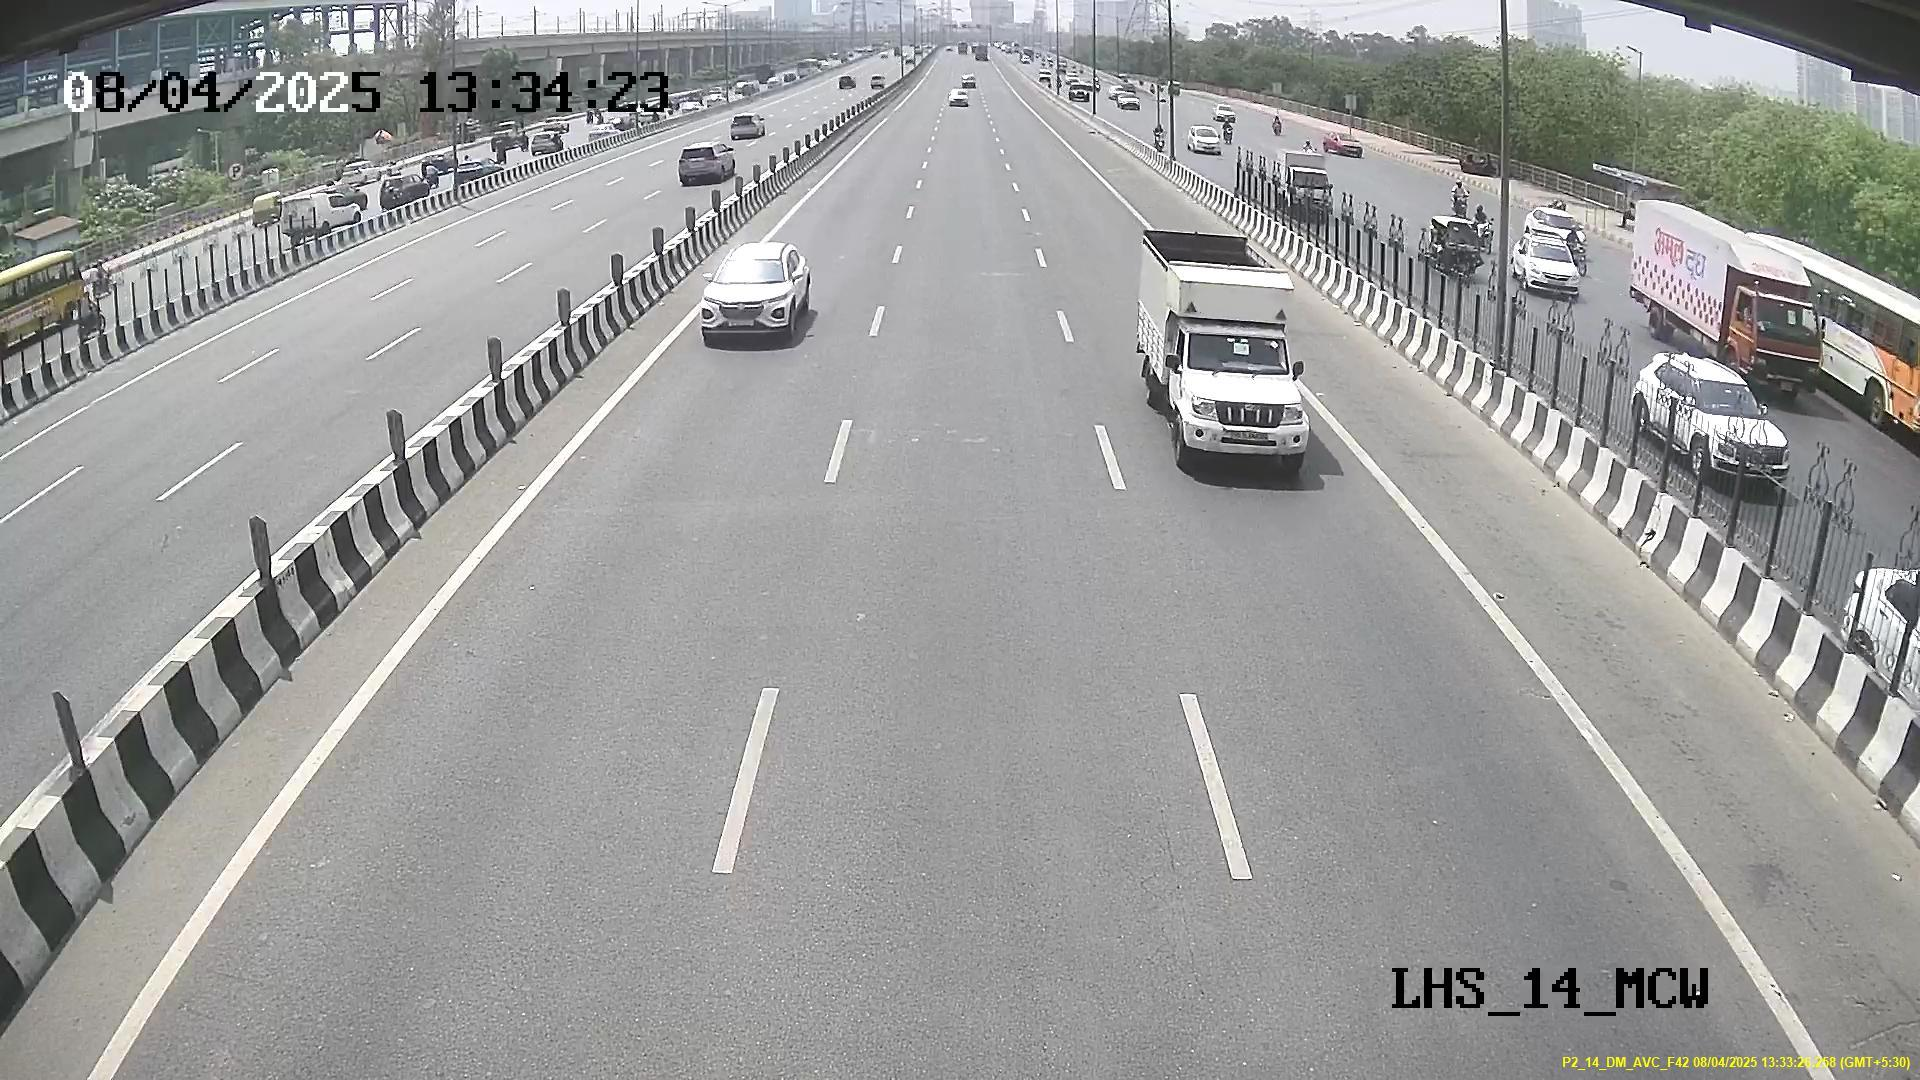car: (1164, 295, 1313, 485), (698, 251, 804, 343)
